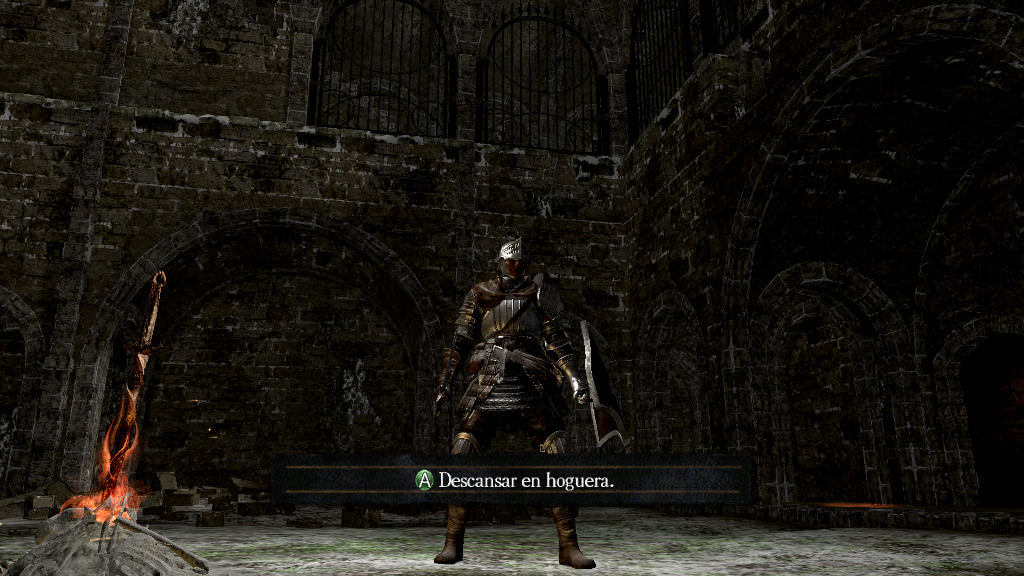bonfire: (37, 265, 219, 553)
dialogBox: (275, 456, 754, 504)
player: (430, 236, 634, 569)
